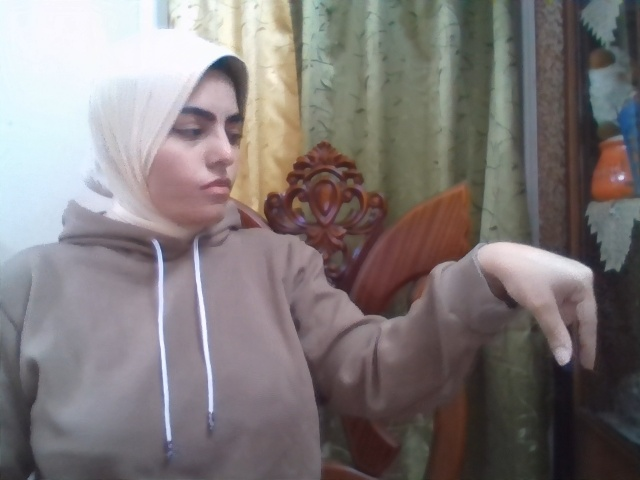Q: (487, 242, 598, 368)
